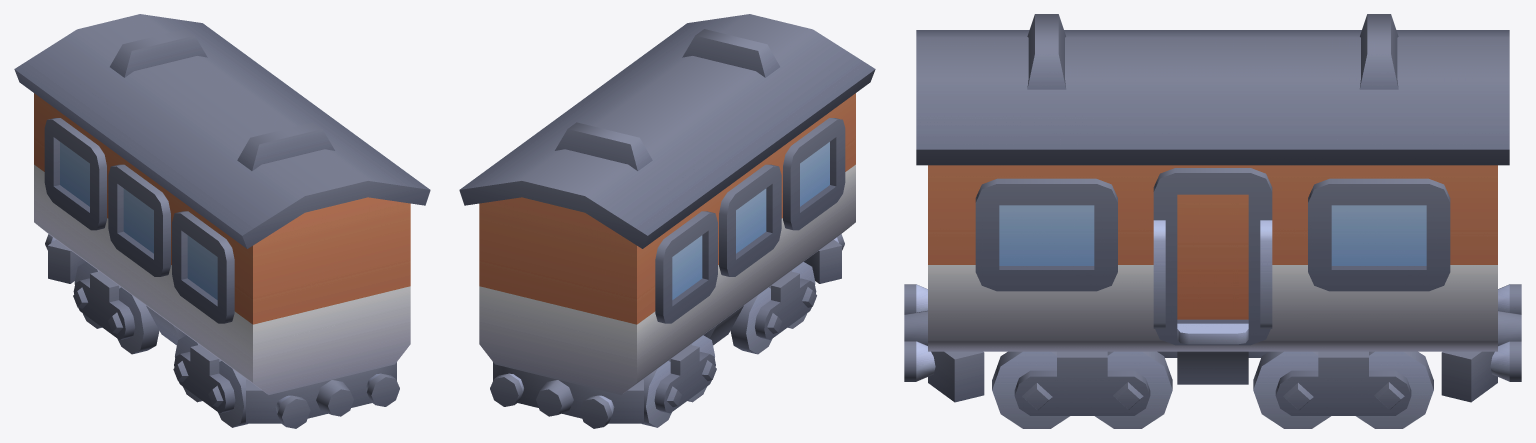
The model's file is train-locomotive-passenger-b.glb.
3 views of the same model, side by side, from view 1: azimuth 30°, elevation 25°; view 2: azimuth 150°, elevation 25°; view 3: azimuth 270°, elevation 25° (orthographic). The views are drawn at different scales.
Parts seen in each view (by area): view 1: train-locomotive-passenger-b; view 2: train-locomotive-passenger-b; view 3: train-locomotive-passenger-b.
Part boxes in pixels (box(x1,y1,x2,y2)): train-locomotive-passenger-b: box(14, 14, 430, 428); train-locomotive-passenger-b: box(459, 14, 875, 428); train-locomotive-passenger-b: box(904, 14, 1521, 428).
Size of the model in its own units: 1.25 by 1.65 by 2.6.
1 material, 1 textured.
